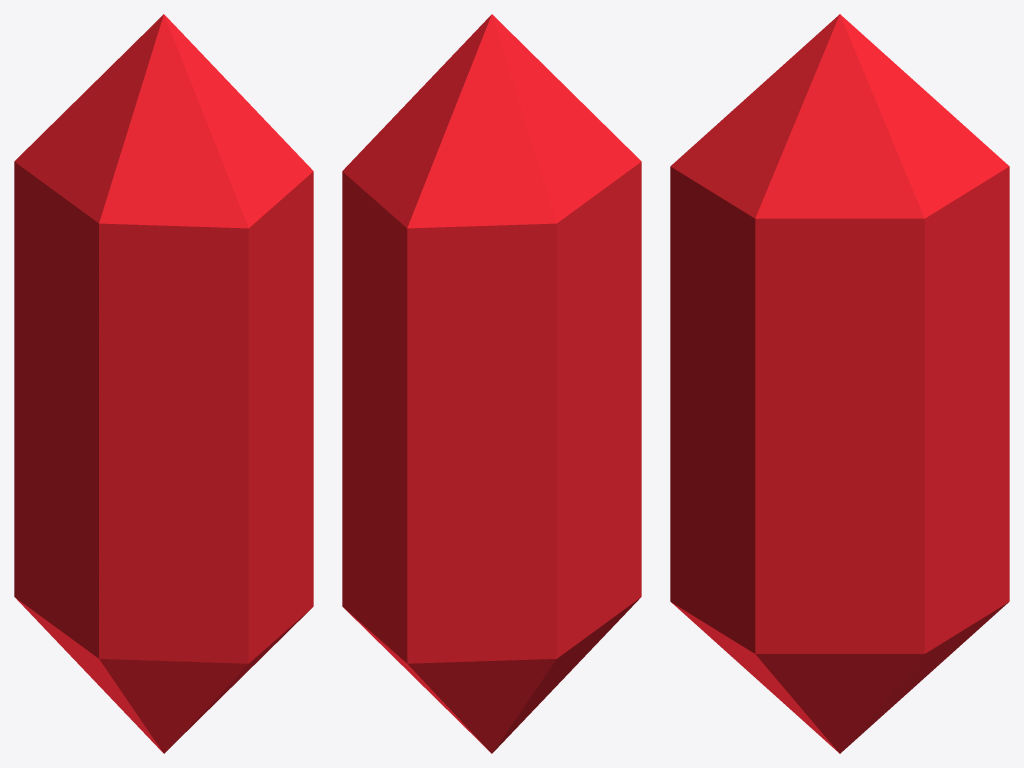
File: stone.glb
3 renders of one model, left to right at view 1: azimuth 30°, elevation 25°; view 2: azimuth 150°, elevation 25°; view 3: azimuth 270°, elevation 25°, orthographic.
Visible parts, largest first — view 1: Cylinder.019; view 2: Cylinder.019; view 3: Cylinder.019.
Part boxes in pixels (left/top/right/bottom): Cylinder.019: left=14, top=14, right=313, bottom=753; Cylinder.019: left=342, top=14, right=641, bottom=753; Cylinder.019: left=670, top=14, right=1009, bottom=753.
Bounding box in the file's own units: 1.03 × 3.4 × 1.41.
